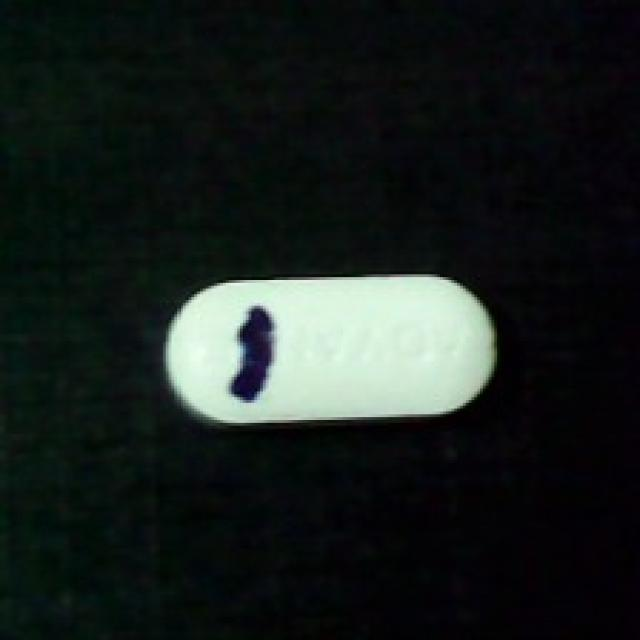defected: (163, 266, 500, 434)
